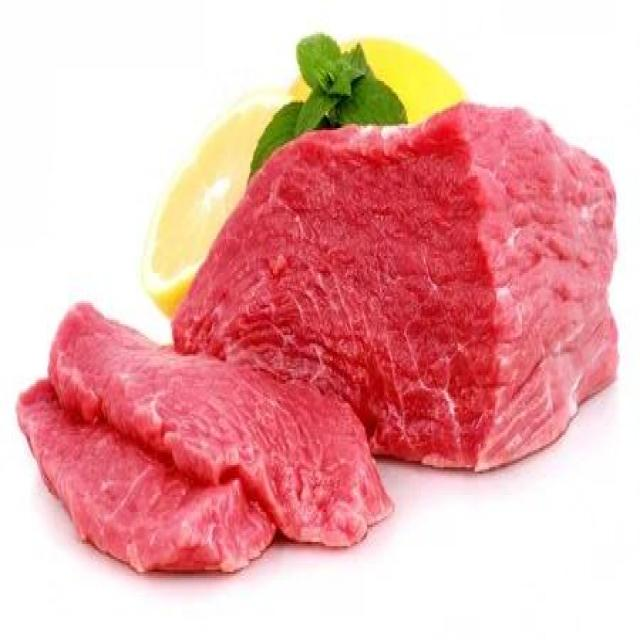beef: (42, 314, 360, 562)
